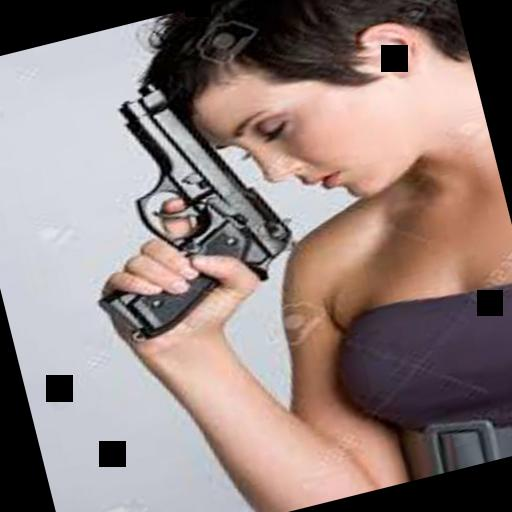Handgun: (48, 56, 306, 346)
